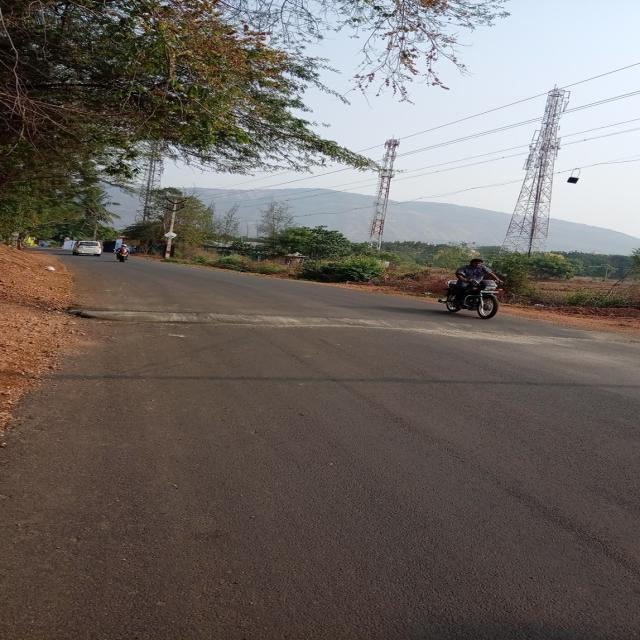Speed_Breaker: (51, 303, 575, 351), (72, 310, 575, 346)
